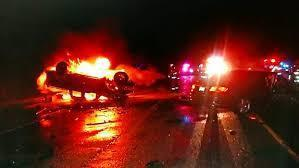fire: (39, 51, 132, 100), (205, 52, 232, 78)
